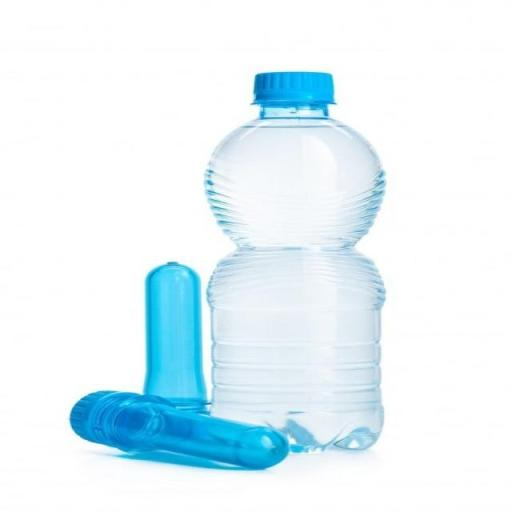plastic: (179, 65, 408, 453)
